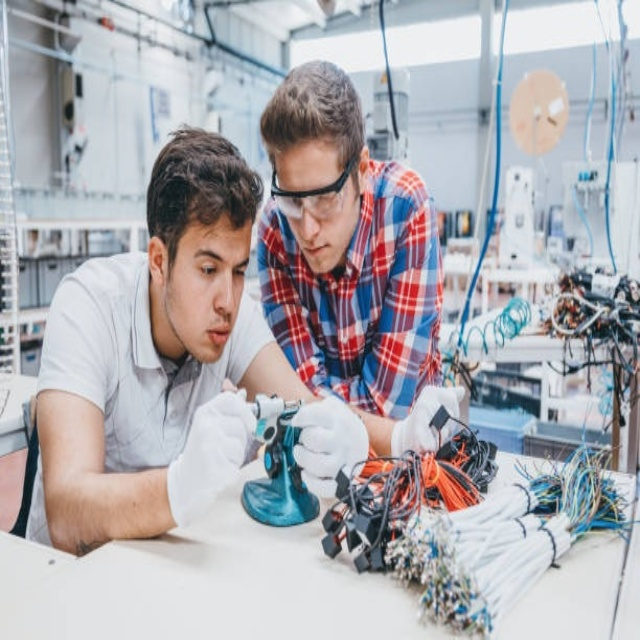Gafas: (268, 151, 356, 219)
Guantes: (166, 390, 258, 530), (286, 392, 370, 493), (392, 384, 466, 459)
Sin_gafas: (180, 238, 252, 285)
Sin_mascara: (195, 317, 234, 358), (295, 237, 340, 268)
